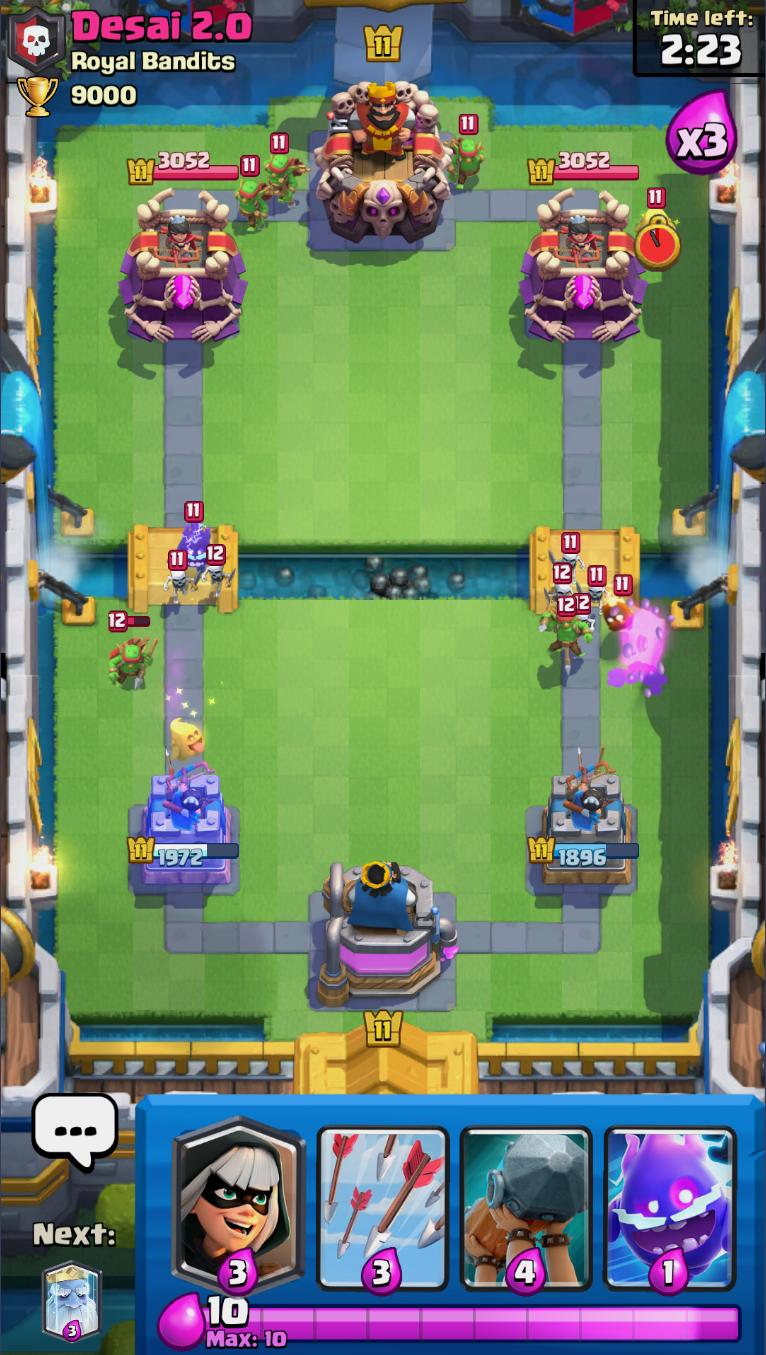ArrowDeck: (310, 1097, 456, 1293)
BanditDeck: (165, 1096, 313, 1290)
BattleRamDeck: (453, 1097, 597, 1297)
ElectroSpirit: (168, 502, 222, 570)
ElectroSpiritDeck: (596, 1098, 745, 1293)
Elixir: (203, 1292, 252, 1328)
EnemyTower: (522, 190, 650, 348), (120, 197, 238, 347)
FireSpirit: (600, 570, 635, 637)
HealSpirit: (635, 187, 683, 237), (167, 713, 207, 763)
KingTower: (313, 73, 450, 257)
MyKingTower: (315, 860, 462, 1010)
MyPrincessTower: (122, 773, 240, 892), (530, 767, 642, 887)
MyPrincessTowerHP: (128, 837, 238, 867), (532, 838, 642, 867)
PrincessTower: (150, 213, 207, 267), (553, 213, 603, 265)
RoyaleGhostNext: (42, 1257, 103, 1343)
Skeleton: (165, 550, 207, 600), (200, 542, 237, 598), (543, 558, 578, 610), (545, 533, 585, 568), (582, 565, 611, 613), (574, 590, 600, 641)
SpearGoblin: (538, 597, 588, 668), (230, 155, 273, 233), (110, 612, 153, 688), (263, 133, 303, 212), (448, 113, 487, 192)
TowerPrincessHP: (128, 145, 239, 185), (527, 150, 642, 188)
